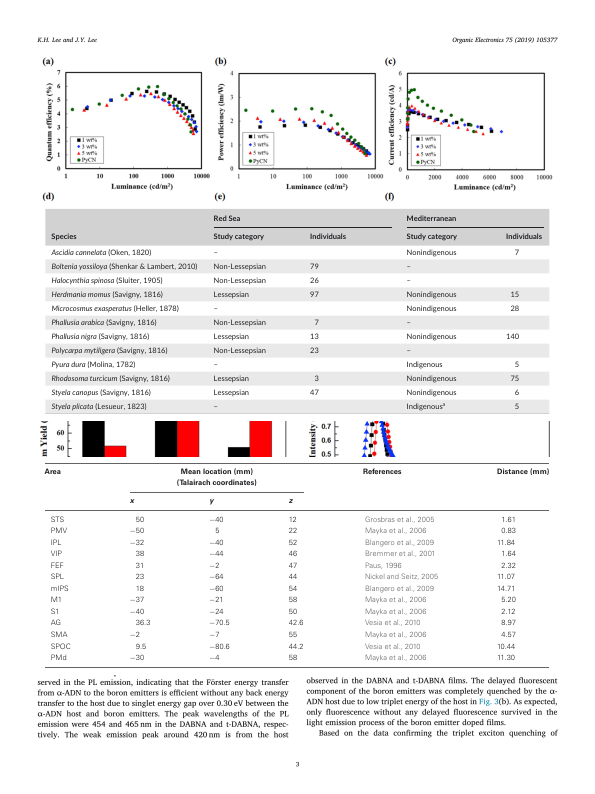borderless: (43, 208, 550, 415), (44, 462, 549, 667)
cell: (50, 261, 197, 273), (176, 468, 258, 488), (50, 303, 179, 315), (50, 373, 170, 385), (50, 345, 168, 357), (50, 275, 163, 287), (50, 289, 163, 301), (50, 317, 157, 329), (50, 247, 151, 259), (50, 387, 151, 399), (50, 331, 149, 343), (50, 401, 147, 413), (50, 359, 135, 371), (364, 573, 439, 582), (405, 212, 456, 225), (364, 551, 436, 560), (212, 261, 266, 273), (212, 275, 266, 287), (212, 317, 266, 329), (212, 345, 266, 357), (364, 516, 435, 525), (364, 539, 435, 548), (364, 585, 435, 594), (212, 231, 264, 243), (405, 231, 457, 243), (405, 247, 457, 259), (405, 289, 457, 301), (405, 303, 457, 315), (405, 331, 457, 343), (405, 373, 457, 385), (405, 387, 457, 399), (364, 608, 427, 617), (364, 631, 427, 640), (364, 654, 427, 663), (405, 400, 445, 413), (364, 620, 421, 629), (364, 643, 421, 652), (364, 528, 427, 536), (364, 597, 427, 605), (405, 359, 443, 371), (212, 289, 249, 301), (212, 331, 249, 343), (212, 373, 249, 385), (212, 387, 249, 399), (496, 468, 550, 476), (212, 212, 241, 225), (364, 562, 403, 571), (362, 468, 403, 476), (50, 231, 77, 243), (308, 233, 346, 241), (504, 233, 542, 241), (208, 620, 231, 629), (208, 643, 231, 652), (50, 643, 72, 652), (496, 539, 516, 548), (496, 573, 516, 582), (50, 585, 70, 594), (496, 585, 516, 594), (496, 643, 516, 652), (496, 654, 516, 663), (50, 631, 68, 640), (50, 654, 68, 663), (208, 516, 225, 525), (500, 516, 517, 525), (208, 539, 225, 548), (208, 551, 225, 560), (500, 551, 517, 560), (500, 562, 517, 571), (208, 573, 225, 582), (208, 585, 225, 594), (208, 597, 225, 606), (208, 608, 225, 617), (500, 620, 517, 629), (500, 631, 517, 640), (43, 468, 62, 476), (50, 528, 68, 536), (129, 539, 145, 548), (129, 597, 145, 606), (129, 608, 145, 617), (500, 608, 516, 617), (135, 620, 151, 629), (288, 620, 304, 629), (288, 643, 304, 652), (129, 654, 145, 663), (500, 528, 517, 536), (500, 597, 517, 605), (50, 516, 65, 525), (50, 562, 65, 571), (50, 573, 65, 582), (308, 261, 319, 273), (308, 275, 319, 287), (308, 289, 319, 301), (129, 528, 145, 536), (50, 539, 63, 548), (50, 551, 63, 560), (50, 597, 63, 606), (208, 562, 220, 571), (50, 620, 62, 629), (129, 631, 141, 640), (208, 631, 220, 640), (135, 643, 147, 652), (208, 654, 220, 663), (504, 334, 519, 341), (135, 516, 145, 525), (288, 516, 298, 525), (288, 539, 298, 548), (135, 551, 145, 560), (288, 551, 298, 560), (135, 562, 145, 571), (288, 562, 298, 571), (135, 573, 145, 582), (288, 573, 298, 582), (135, 585, 145, 594), (288, 585, 298, 594), (288, 597, 298, 606), (50, 608, 60, 617), (288, 608, 298, 617), (288, 631, 298, 640), (288, 654, 298, 663), (288, 528, 298, 536), (308, 334, 319, 341), (308, 348, 319, 355), (308, 390, 319, 397), (513, 387, 519, 399), (509, 292, 519, 299), (509, 306, 519, 313), (509, 376, 519, 383), (214, 528, 220, 536), (129, 499, 135, 506), (208, 499, 214, 506), (212, 250, 218, 257), (513, 250, 519, 257), (405, 264, 411, 271), (405, 278, 411, 285), (212, 306, 218, 313), (313, 320, 319, 327), (405, 320, 411, 327), (405, 348, 411, 355), (212, 362, 218, 369), (513, 362, 519, 369), (313, 376, 319, 383), (212, 404, 218, 411), (513, 404, 519, 411), (288, 499, 293, 506)
